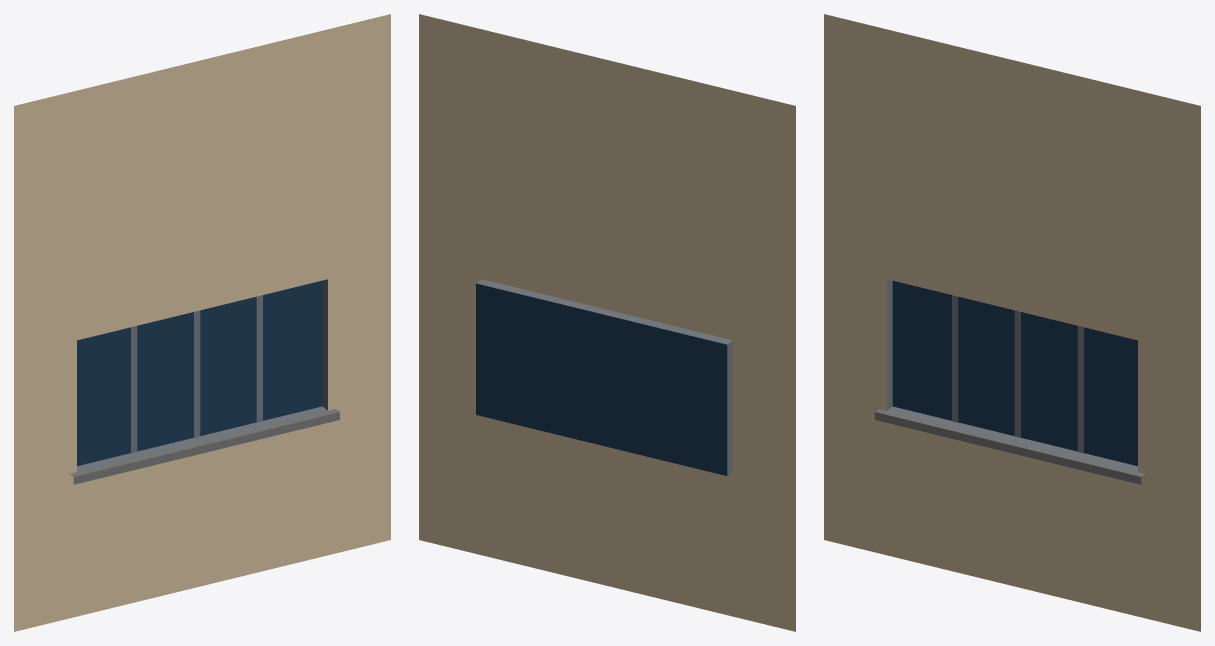
Rendered from mid-w1.fbx.
3 views of the same model, side by side, from view 1: azimuth 30°, elevation 25°; view 2: azimuth 150°, elevation 25°; view 3: azimuth 330°, elevation 25° (orthographic).
Parts seen in each view (by area): view 1: a2004/500/mid-w1; view 2: a2004/500/mid-w1; view 3: a2004/500/mid-w1.
Part boxes in pixels (x1,y1,x2,y2): a2004/500/mid-w1: [14, 14, 390, 631]; a2004/500/mid-w1: [419, 14, 795, 631]; a2004/500/mid-w1: [824, 14, 1200, 631].
Bounding box in the file's own units: 3 × 4 × 0.14.
